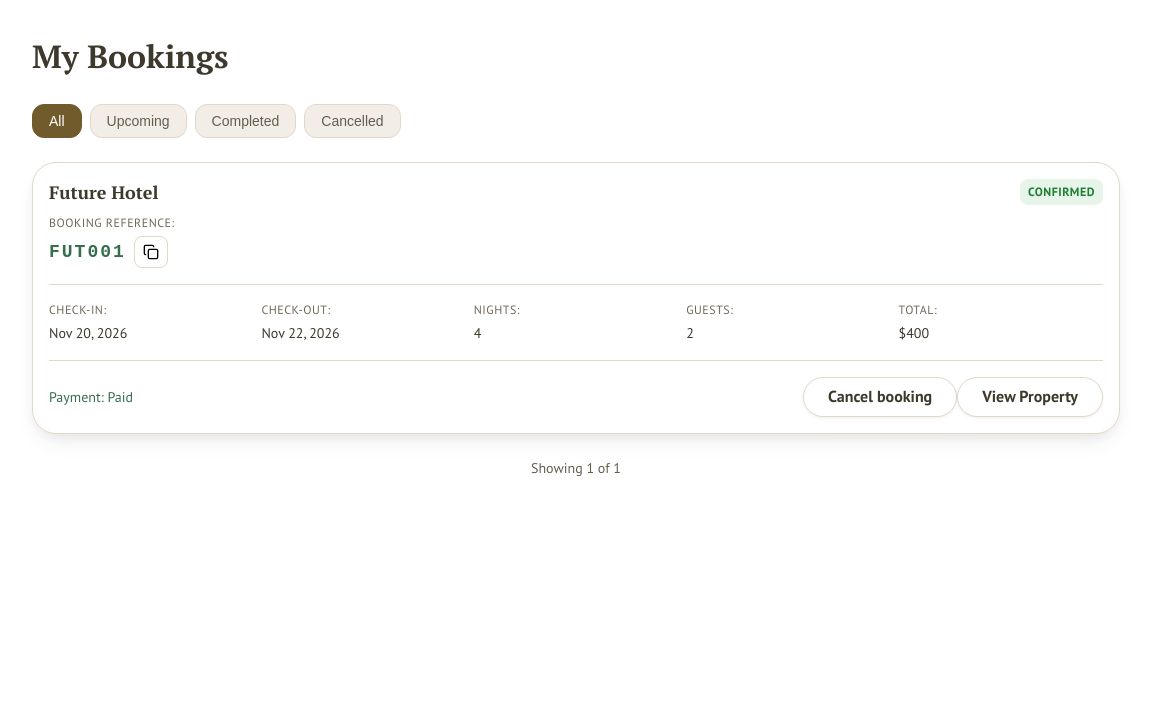
Scenario: BookingsPage › Cancelling a booking (free, cash at the hotel) › asks for confirmation, then cancels and says so
Click the button "Cancel booking": (880, 397) [803, 377, 957, 417]
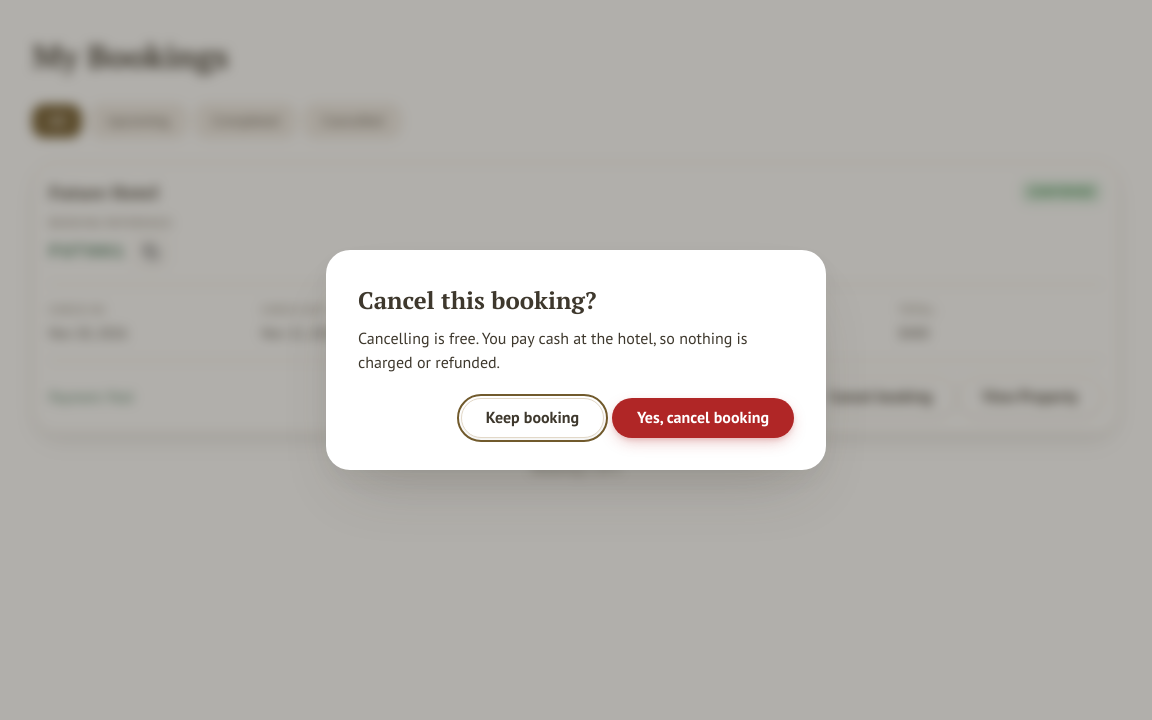
Expected: the text "Cancelling is free" is shown, [358, 328, 748, 372]
Click the button "Yes, cancel booking": (703, 418) [612, 398, 794, 438]
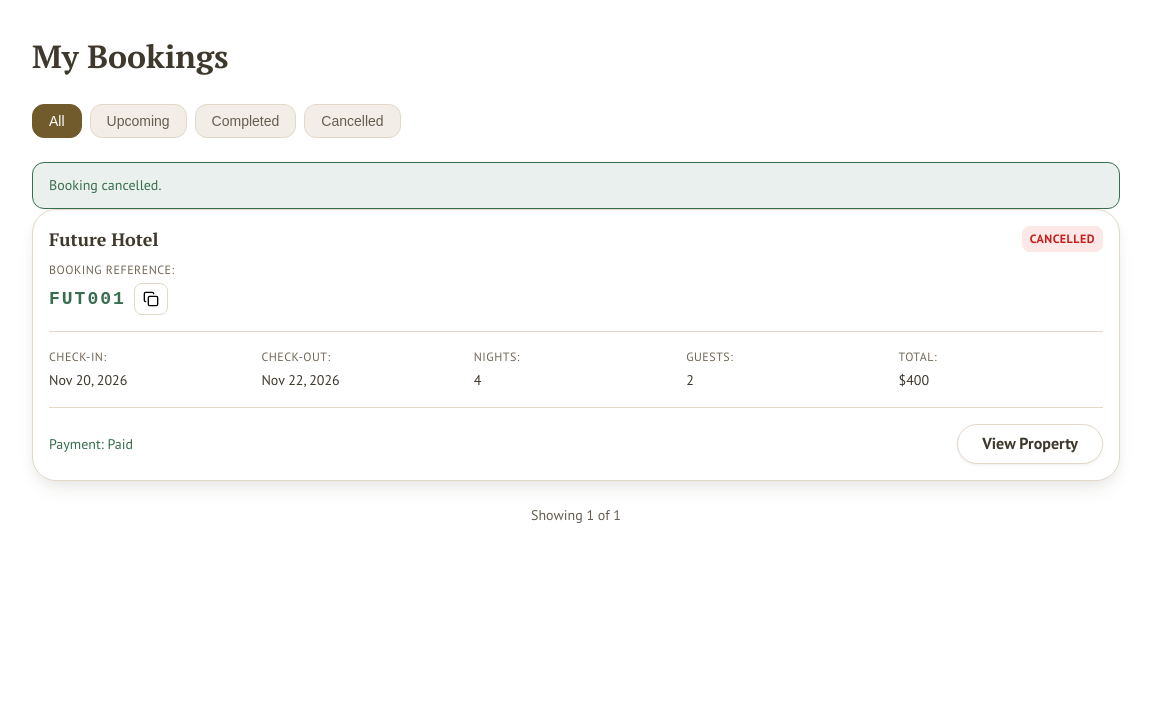
Expected: the text "Booking cancelled." is shown, [32, 162, 1120, 209]
Expected: the dialog is gone
Expected: the button "Cancel booking" is gone
